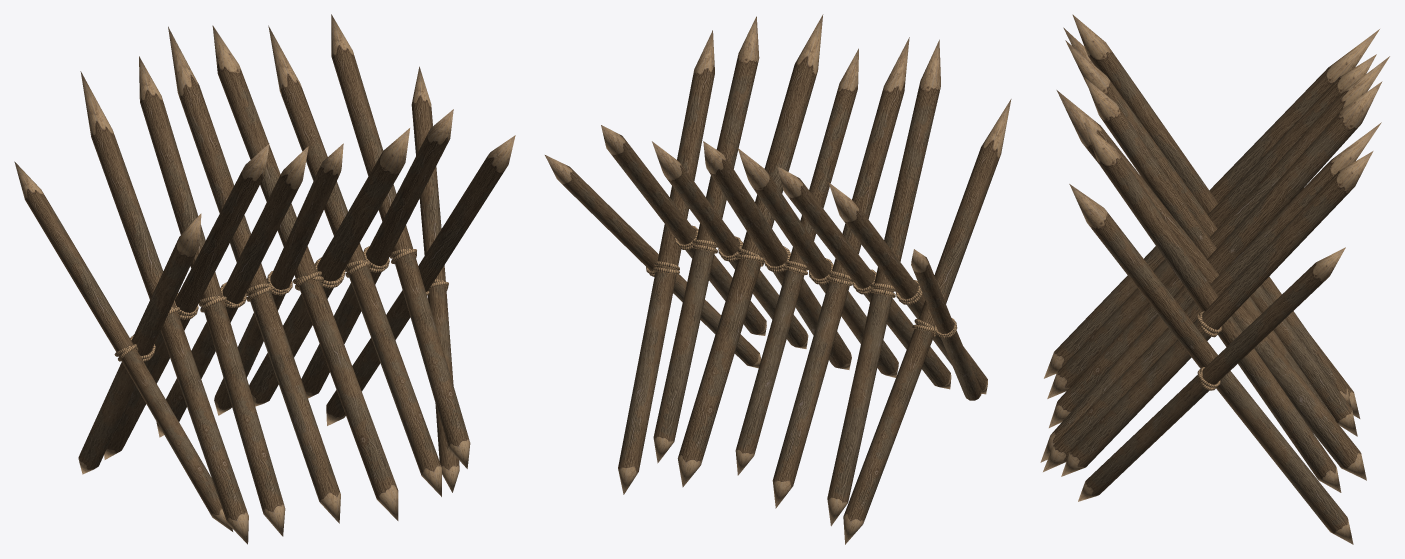
Rendered from SM_Wood_Spike_Barrier1.fbx.
The picture shows the model from 3 angles, left to right: view 1: azimuth 30°, elevation 25°; view 2: azimuth 150°, elevation 25°; view 3: azimuth 270°, elevation 25°; orthographic projection. The views are drawn at different scales.
Visible parts, largest first — view 1: SM_Wood_Spike_Barrier1; view 2: SM_Wood_Spike_Barrier1; view 3: SM_Wood_Spike_Barrier1.
Part boxes in pixels (x1,y1,x2,y2): SM_Wood_Spike_Barrier1: (14, 14, 515, 544); SM_Wood_Spike_Barrier1: (545, 14, 1011, 544); SM_Wood_Spike_Barrier1: (1040, 14, 1389, 544).
Size of the model in its own units: 394 by 407 by 297.
